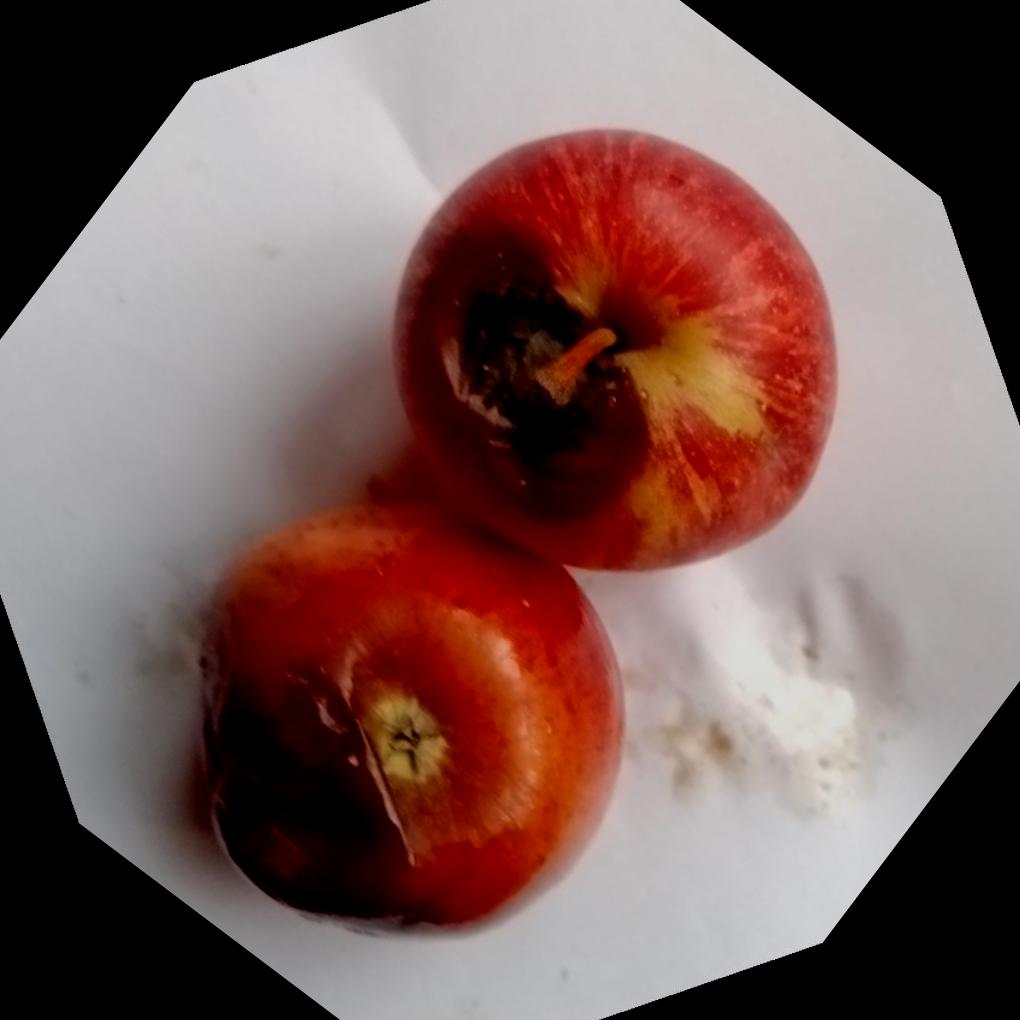FreshOrange: (196, 127, 842, 943)
